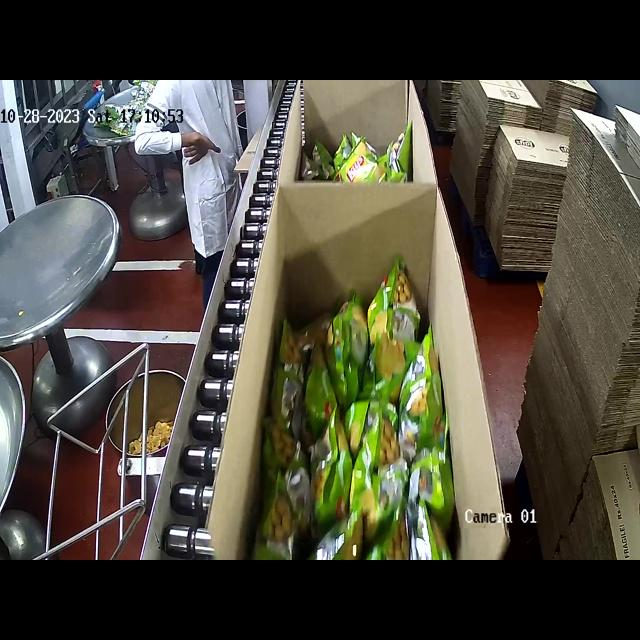yogurt: (259, 255, 455, 558), (297, 124, 416, 182)
